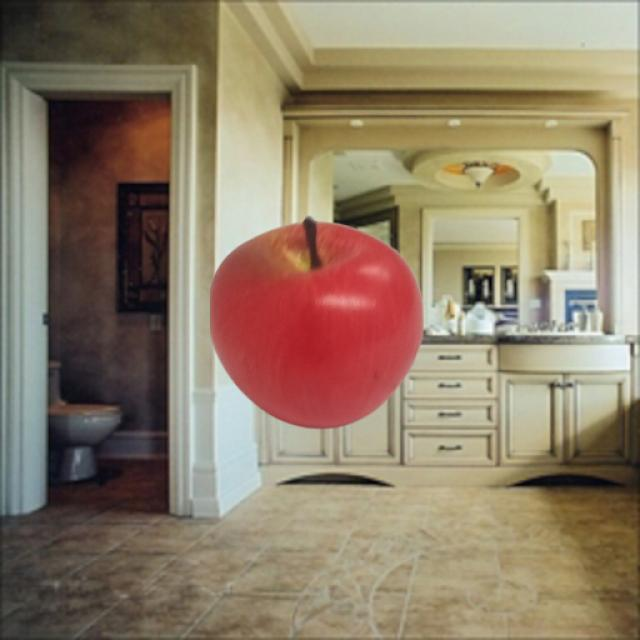apple: (212, 216, 421, 428)
